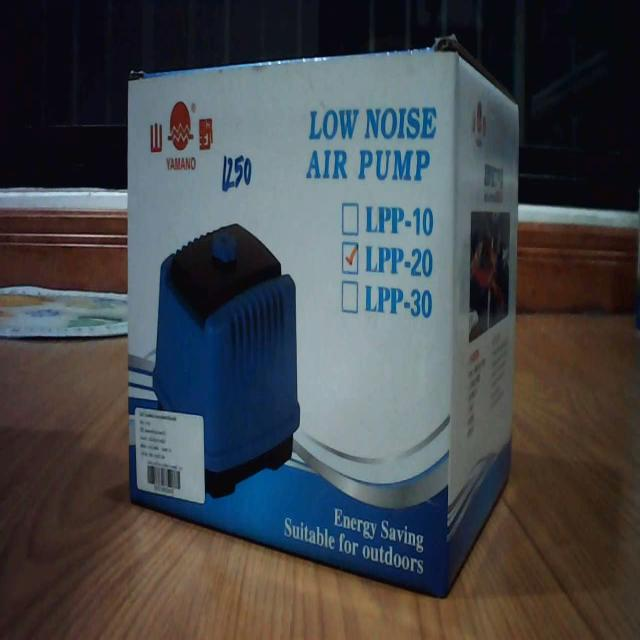YAMANO_LPP_20: (116, 37, 522, 591)
